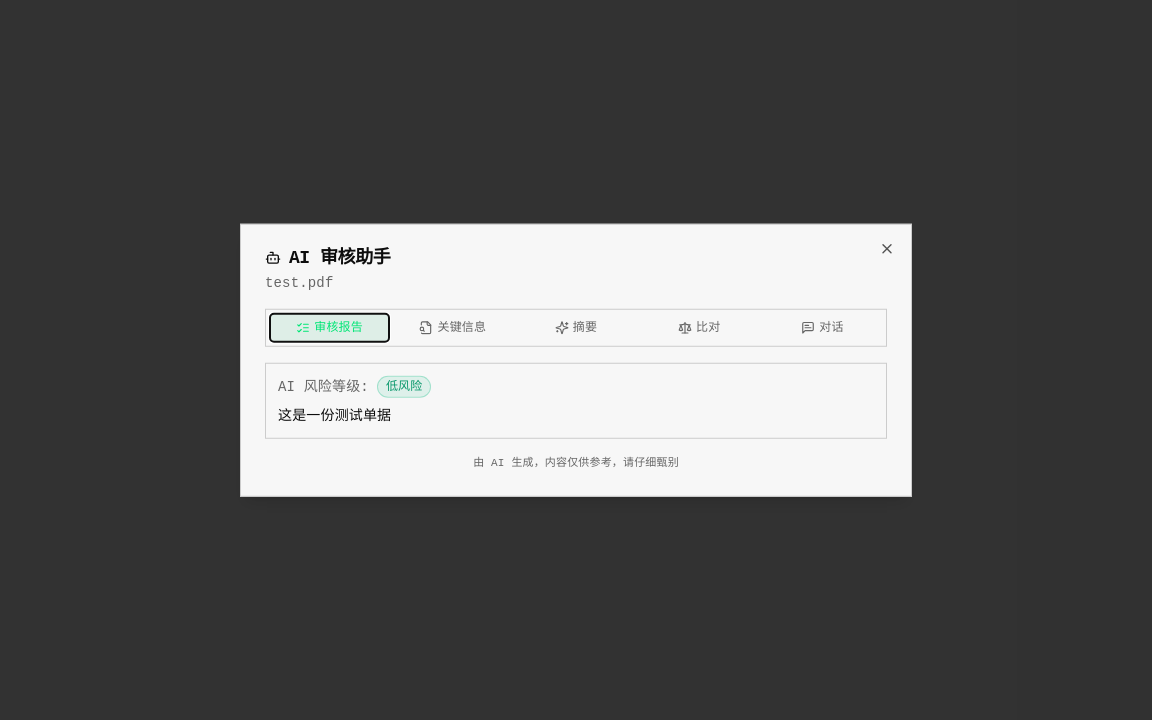
it: AiAssistantDialog › 对话标签页发送问题并展示回复
The width and height of the screenshot is (1152, 720).
Click the button "对话". click: (822, 328)
box: [763,314,882,342]
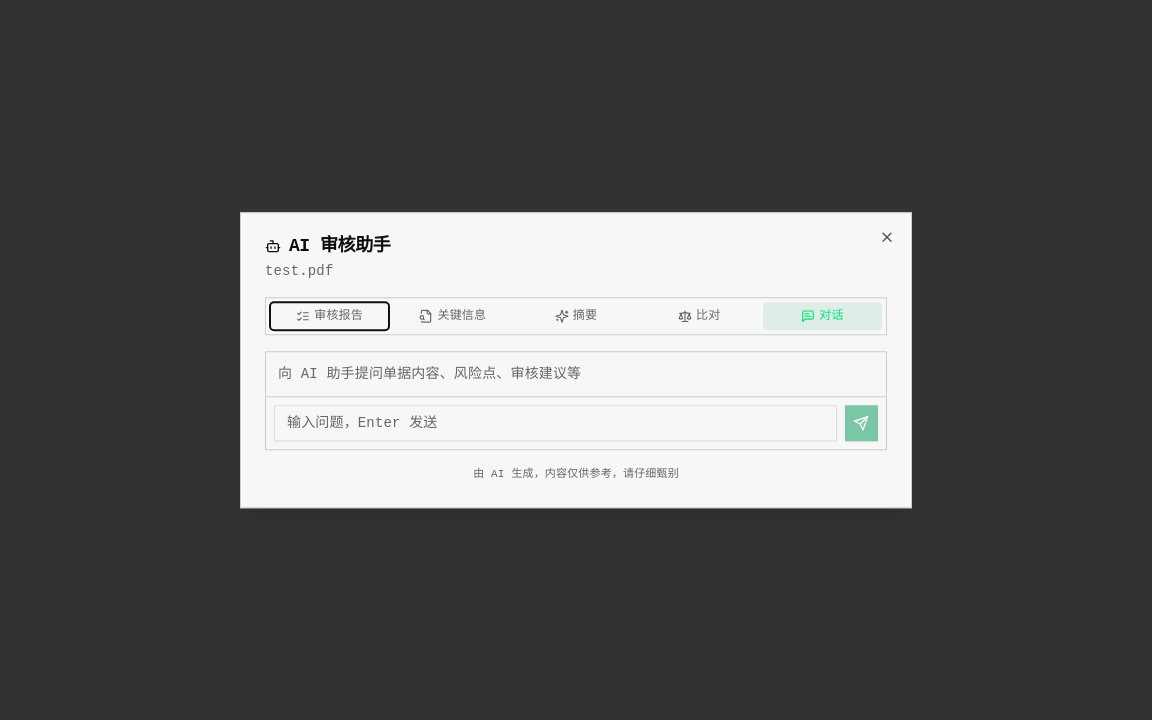
Type "金额是多少？" into the field with placeholder "输入问题，Enter 发送". click: (555, 423)
box: [274,405,837,441]
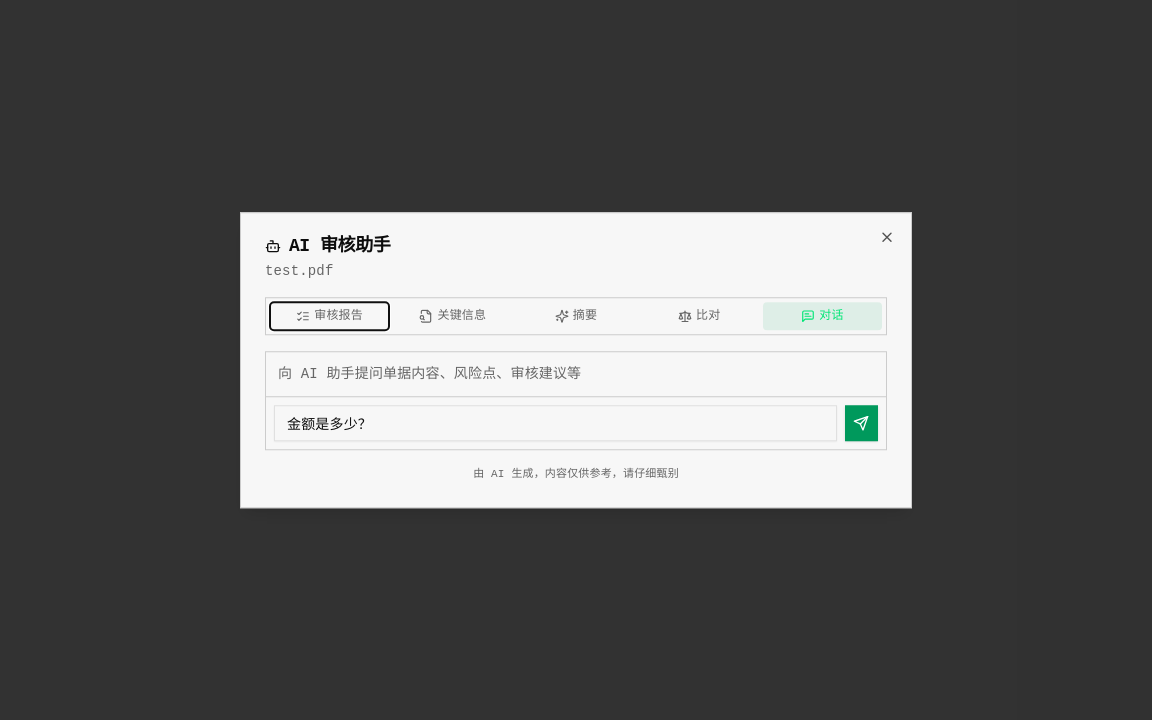
Enter 发送
Press Enter in the field with placeholder "输入问题，Enter 发送", box [274,405,837,441]
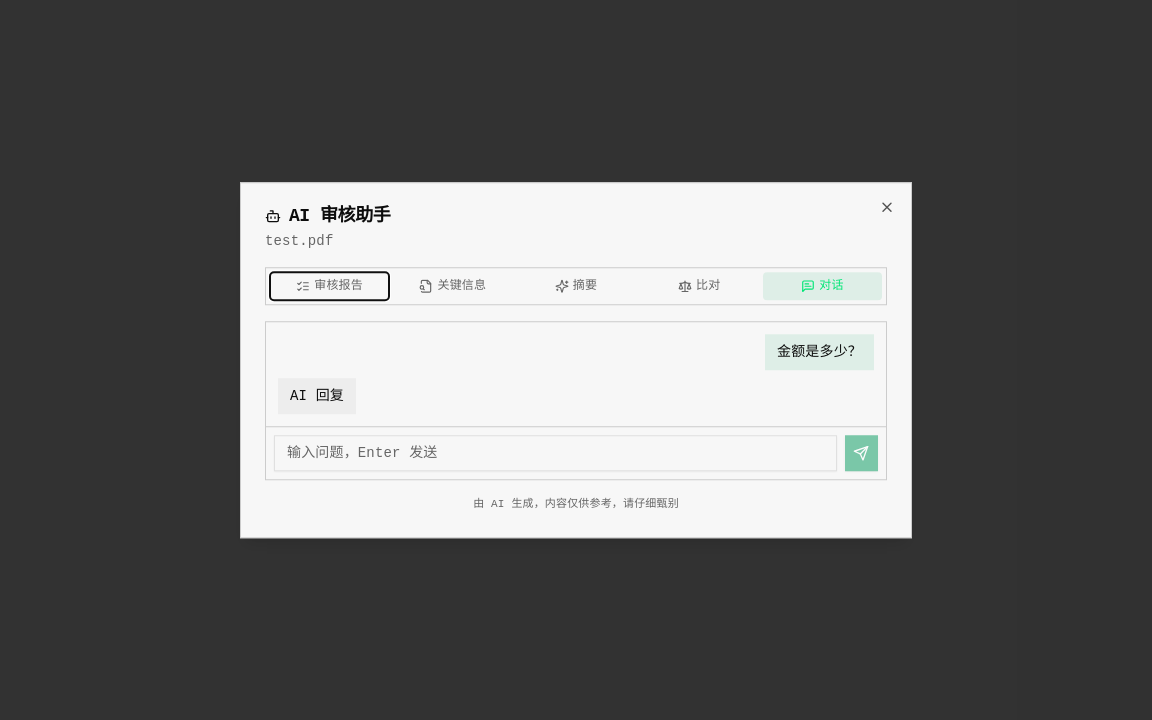
Expected: the text "AI 回复" is shown, [278,378,356,414]
